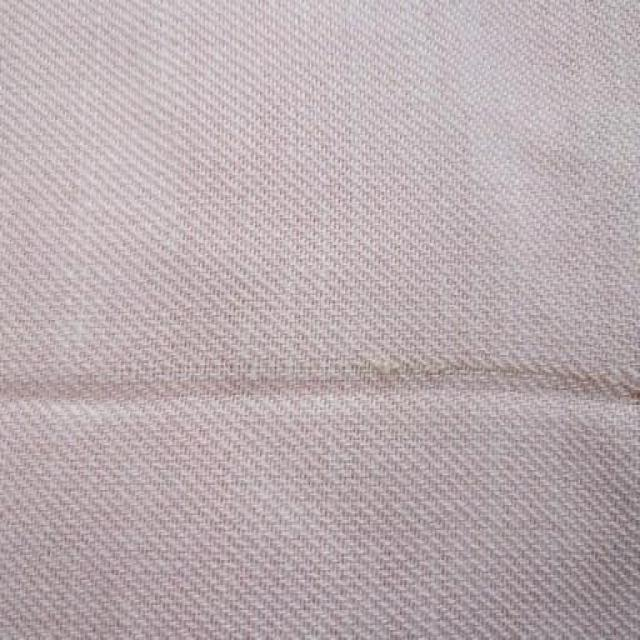Line: (0, 368, 640, 403)
